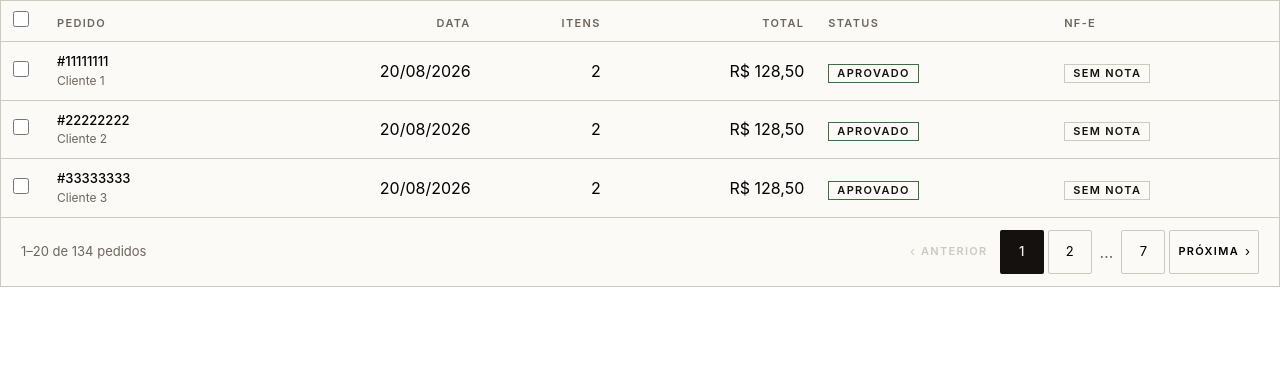
it: a seleção em massa — R25 › seleção parcial fala da página, não do filtro
What coordinates should you click on to do the following:
click the checkbox named "Marcar o pedido #11111111"
I would click on:
 (21, 69)
Its box is [13, 61, 29, 77].
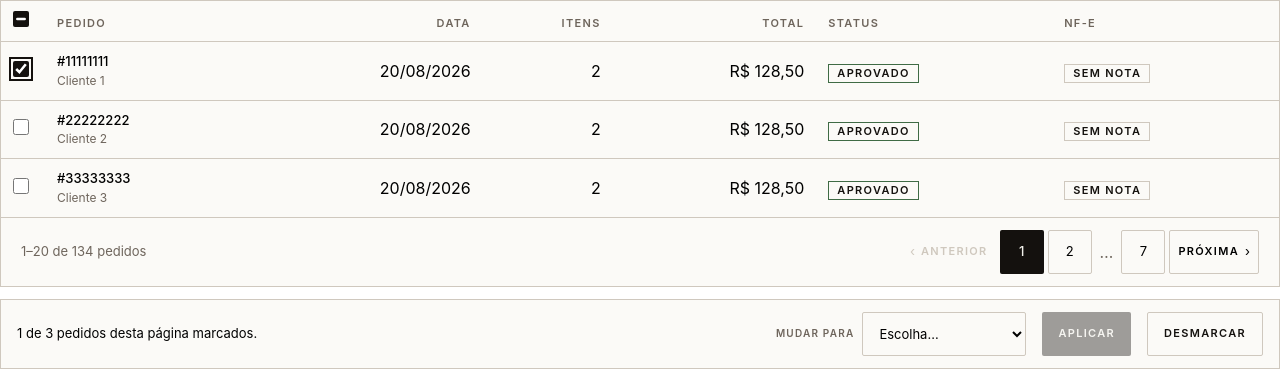
Result: the message reads "1 de 3 pedidos desta página marcados." at [17, 325, 257, 341]
